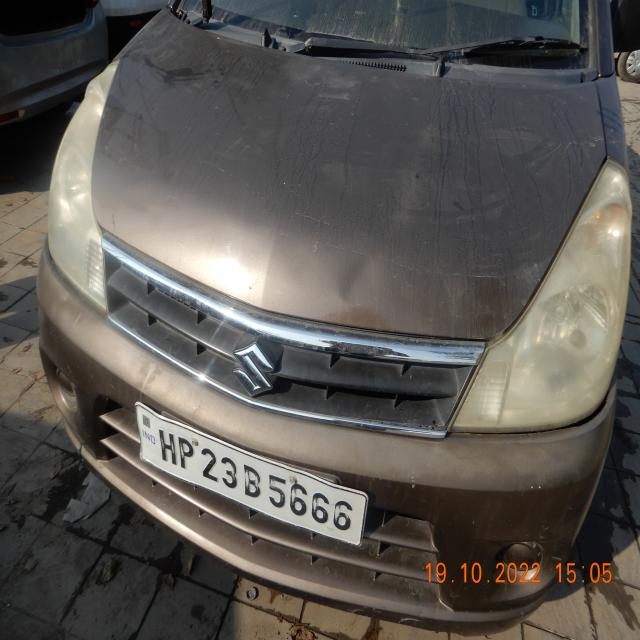damage: (320, 331, 409, 368), (335, 250, 374, 308)
